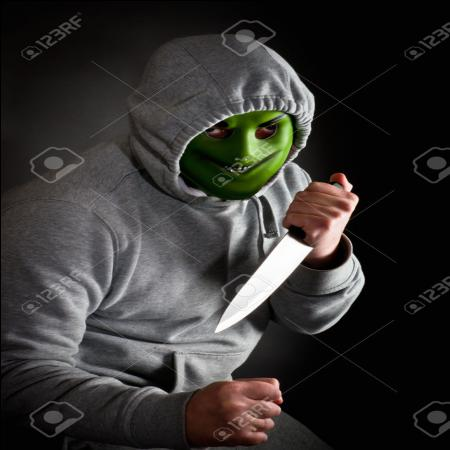long weapon: (207, 190, 360, 340)
